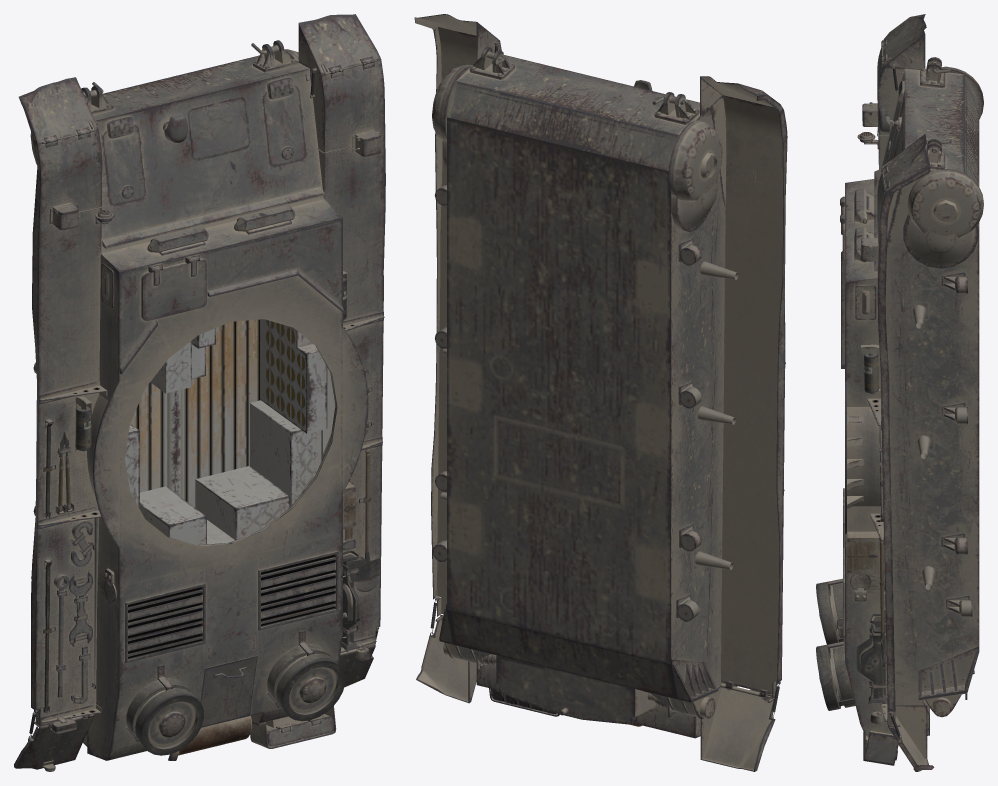
The model's file is Hull.glb.
The picture shows the model from 3 angles, left to right: view 1: azimuth 30°, elevation 25°; view 2: azimuth 150°, elevation 25°; view 3: azimuth 270°, elevation 25°; orthographic projection. The views are drawn at different scales.
Parts seen in each view (by area): view 1: set_0_group_0; view 2: set_0_group_0; view 3: set_0_group_0.
Part boxes in pixels (x1,y1,x2,y2): set_0_group_0: (14, 14, 385, 771); set_0_group_0: (414, 14, 787, 771); set_0_group_0: (816, 14, 983, 771).
Bounding box in the file's own units: 2.91 × 5.51 × 1.33.
Materials: 1 (1 with a texture image).
